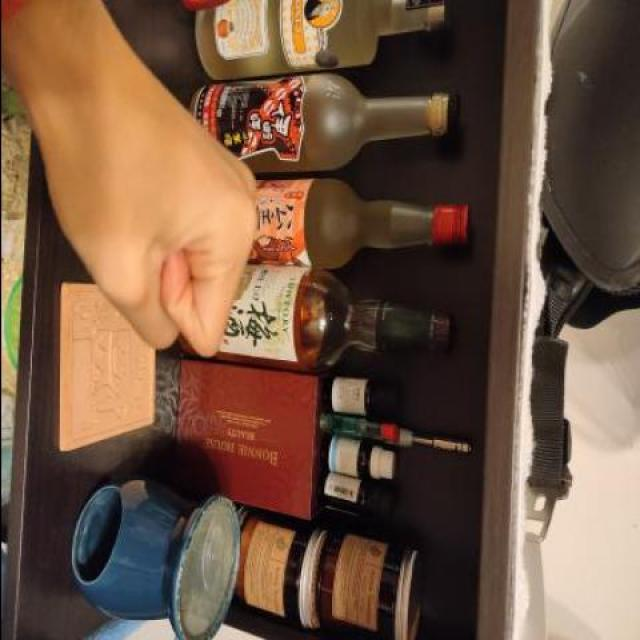fist: (10, 1, 258, 362)
